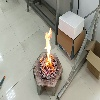fire: (39, 26, 54, 72)
